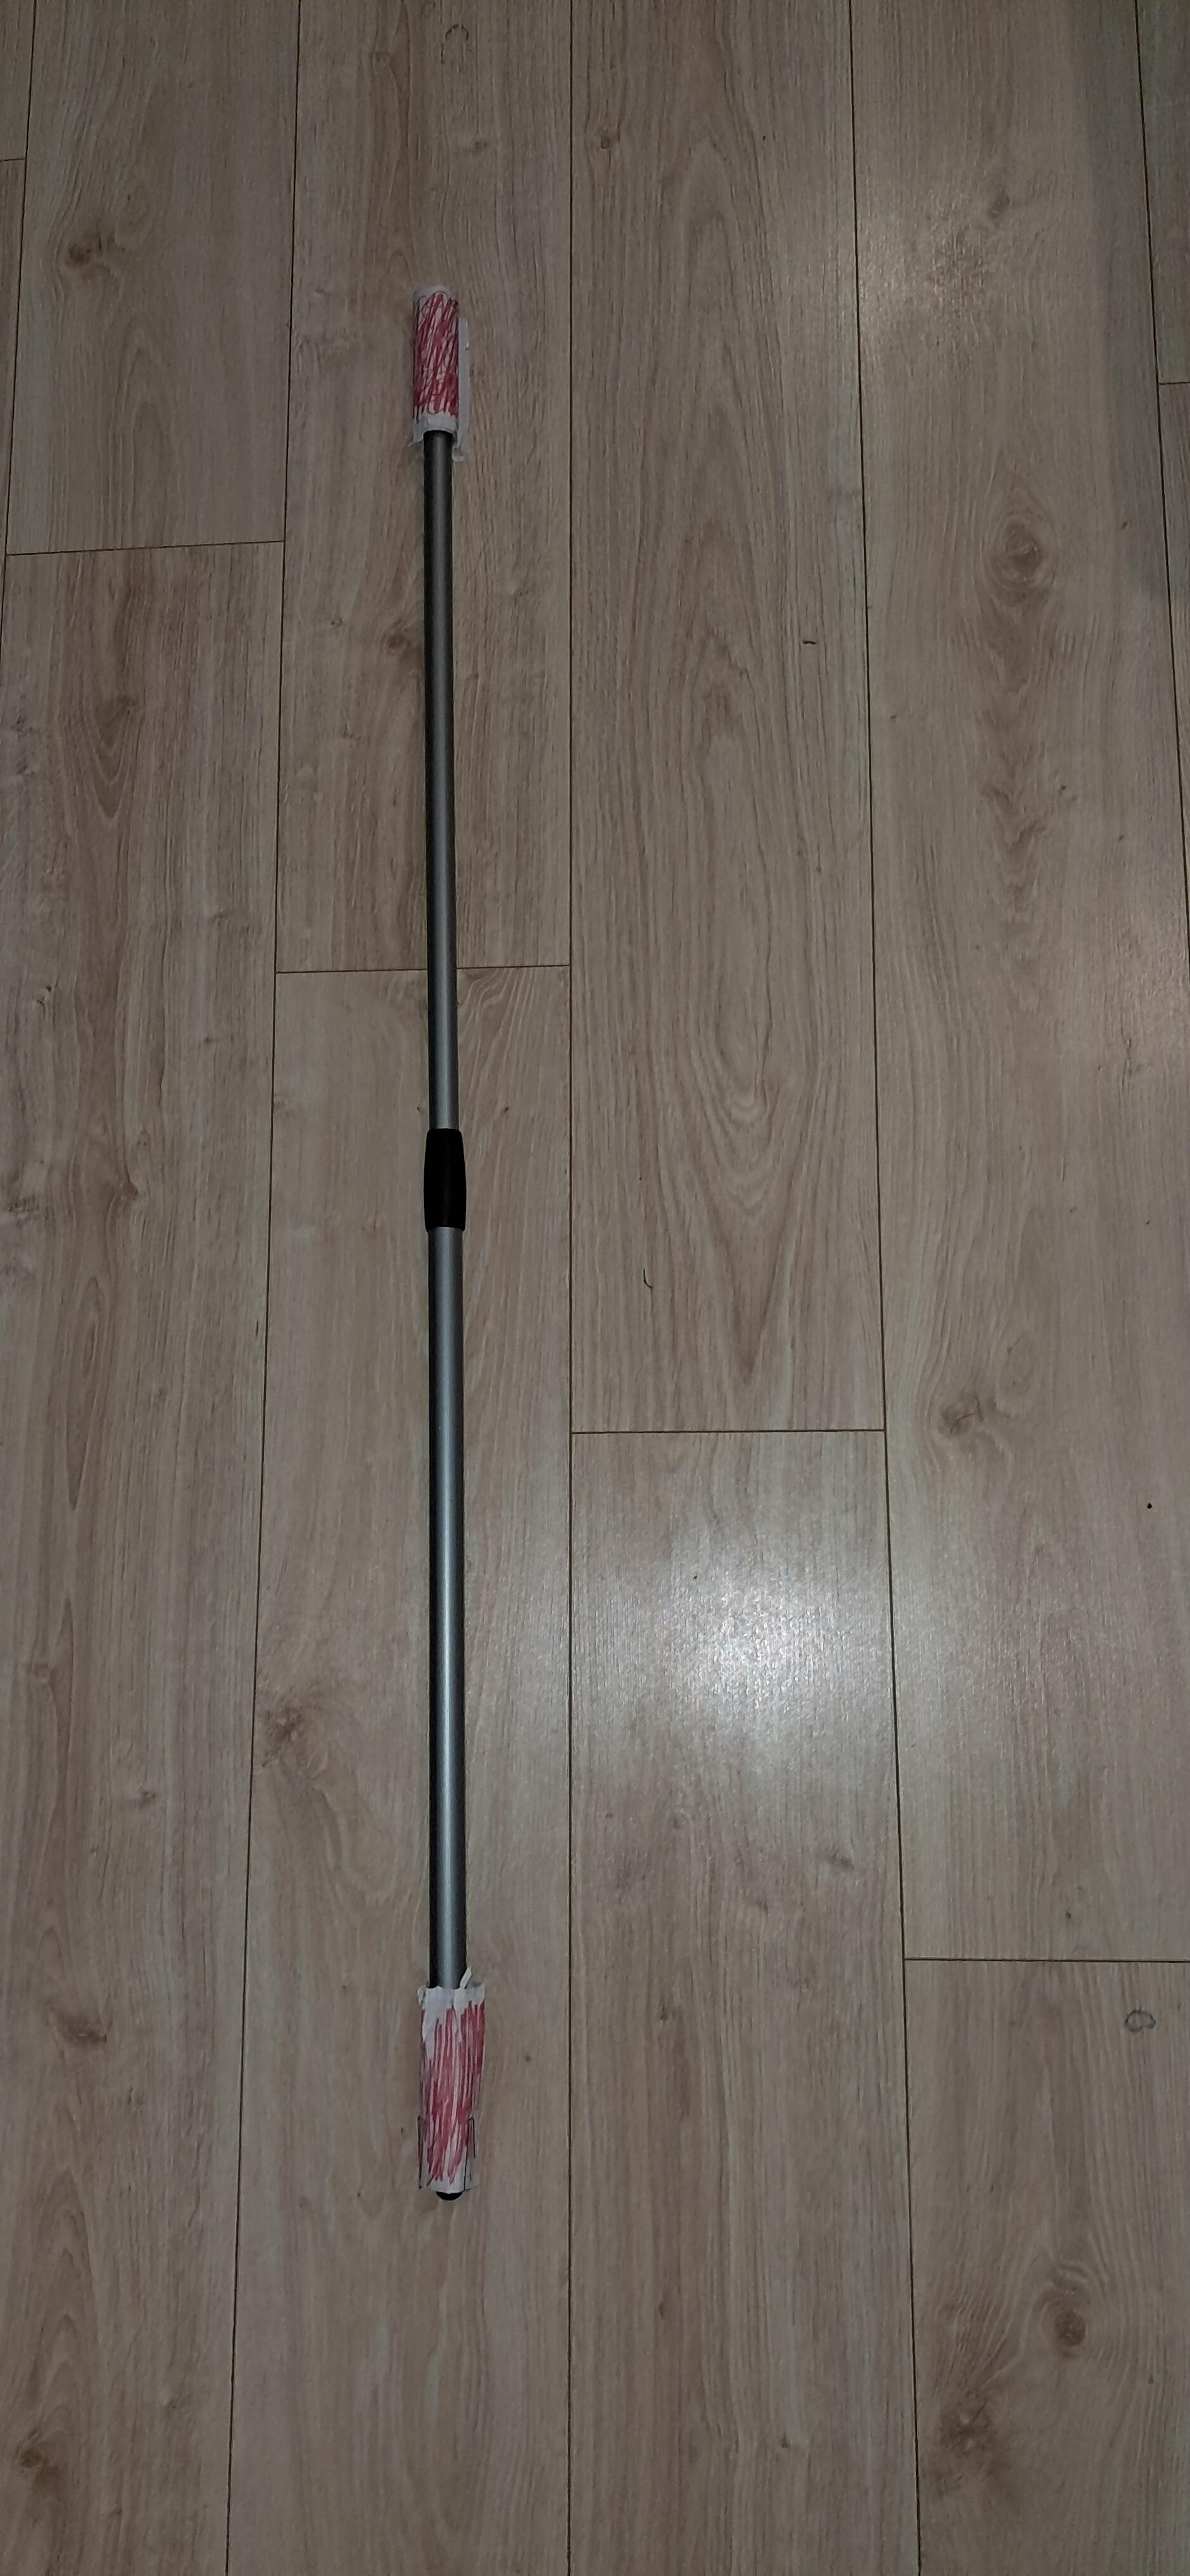broom-handle: (414, 291, 483, 2198)
